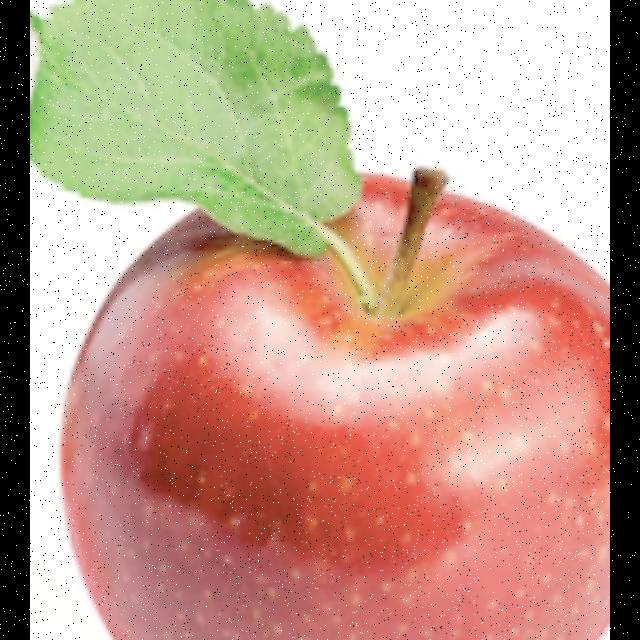Apel Segar: (30, 144, 610, 640)
